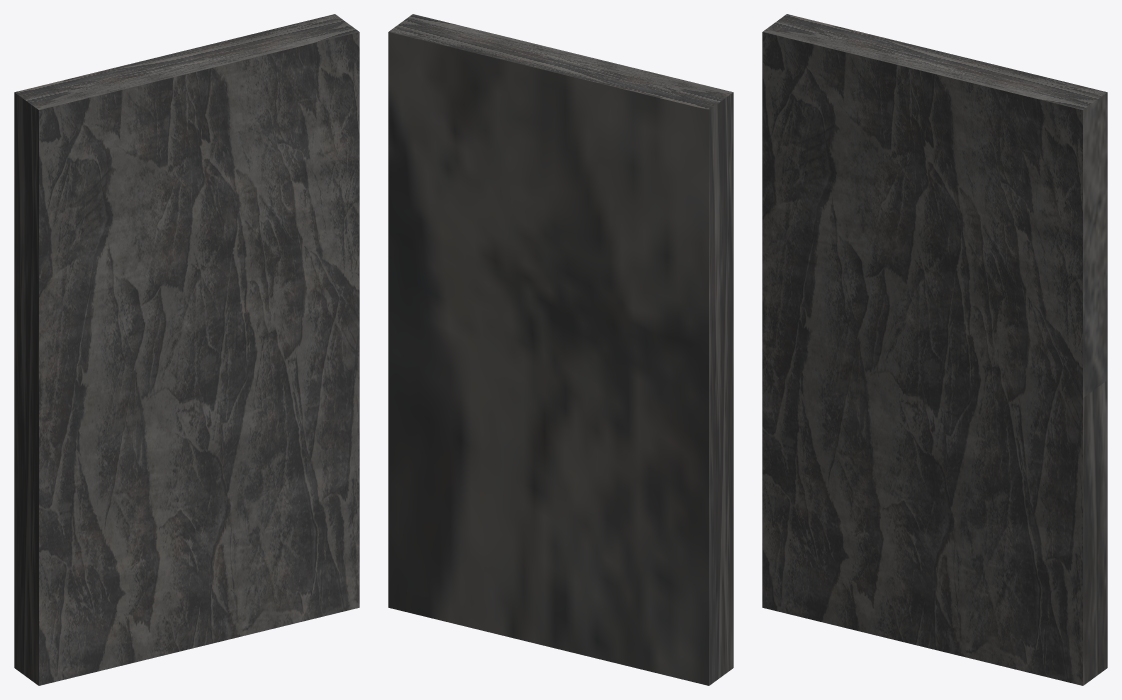
The model's file is Wall1.fbx.
The picture shows the model from 3 angles, left to right: view 1: azimuth 30°, elevation 25°; view 2: azimuth 150°, elevation 25°; view 3: azimuth 330°, elevation 25°; orthographic projection.
Parts seen in each view (by area): view 1: Wall; view 2: Wall; view 3: Wall.
Part boxes in pixels (x1,y1,x2,y2): Wall: (14, 14, 359, 685); Wall: (388, 14, 733, 685); Wall: (762, 14, 1107, 685).
Size of the model in its own units: 566 by 972 by 74.83.
